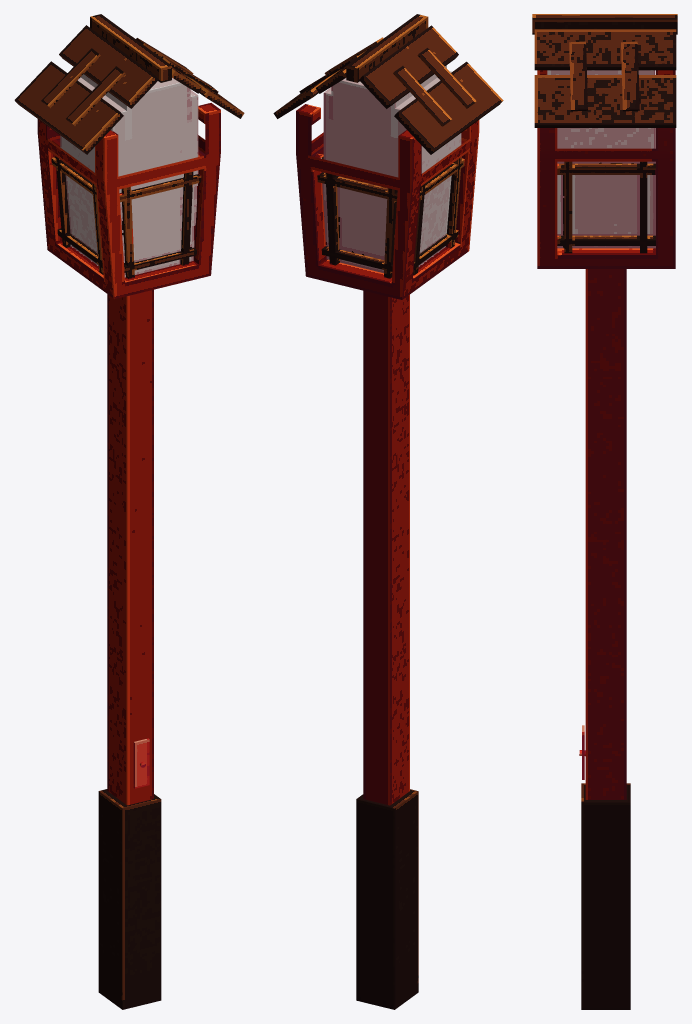
File: street_lamp_jp.glb
3 renders of one model, left to right at view 1: azimuth 30°, elevation 25°; view 2: azimuth 150°, elevation 25°; view 3: azimuth 270°, elevation 25°, orthographic. The views are drawn at different scales.
Visible parts, largest first — view 1: mesh; view 2: mesh; view 3: mesh.
Part boxes in pixels (x1=…): mesh: x1=14, y1=14, x2=244, y2=1009; mesh: x1=273, y1=14, x2=503, y2=1009; mesh: x1=532, y1=14, x2=677, y2=1009.
Bounding box in the file's own units: 0.8131 × 4.6 × 0.6171.
Materials: 1 (1 with a texture image).
